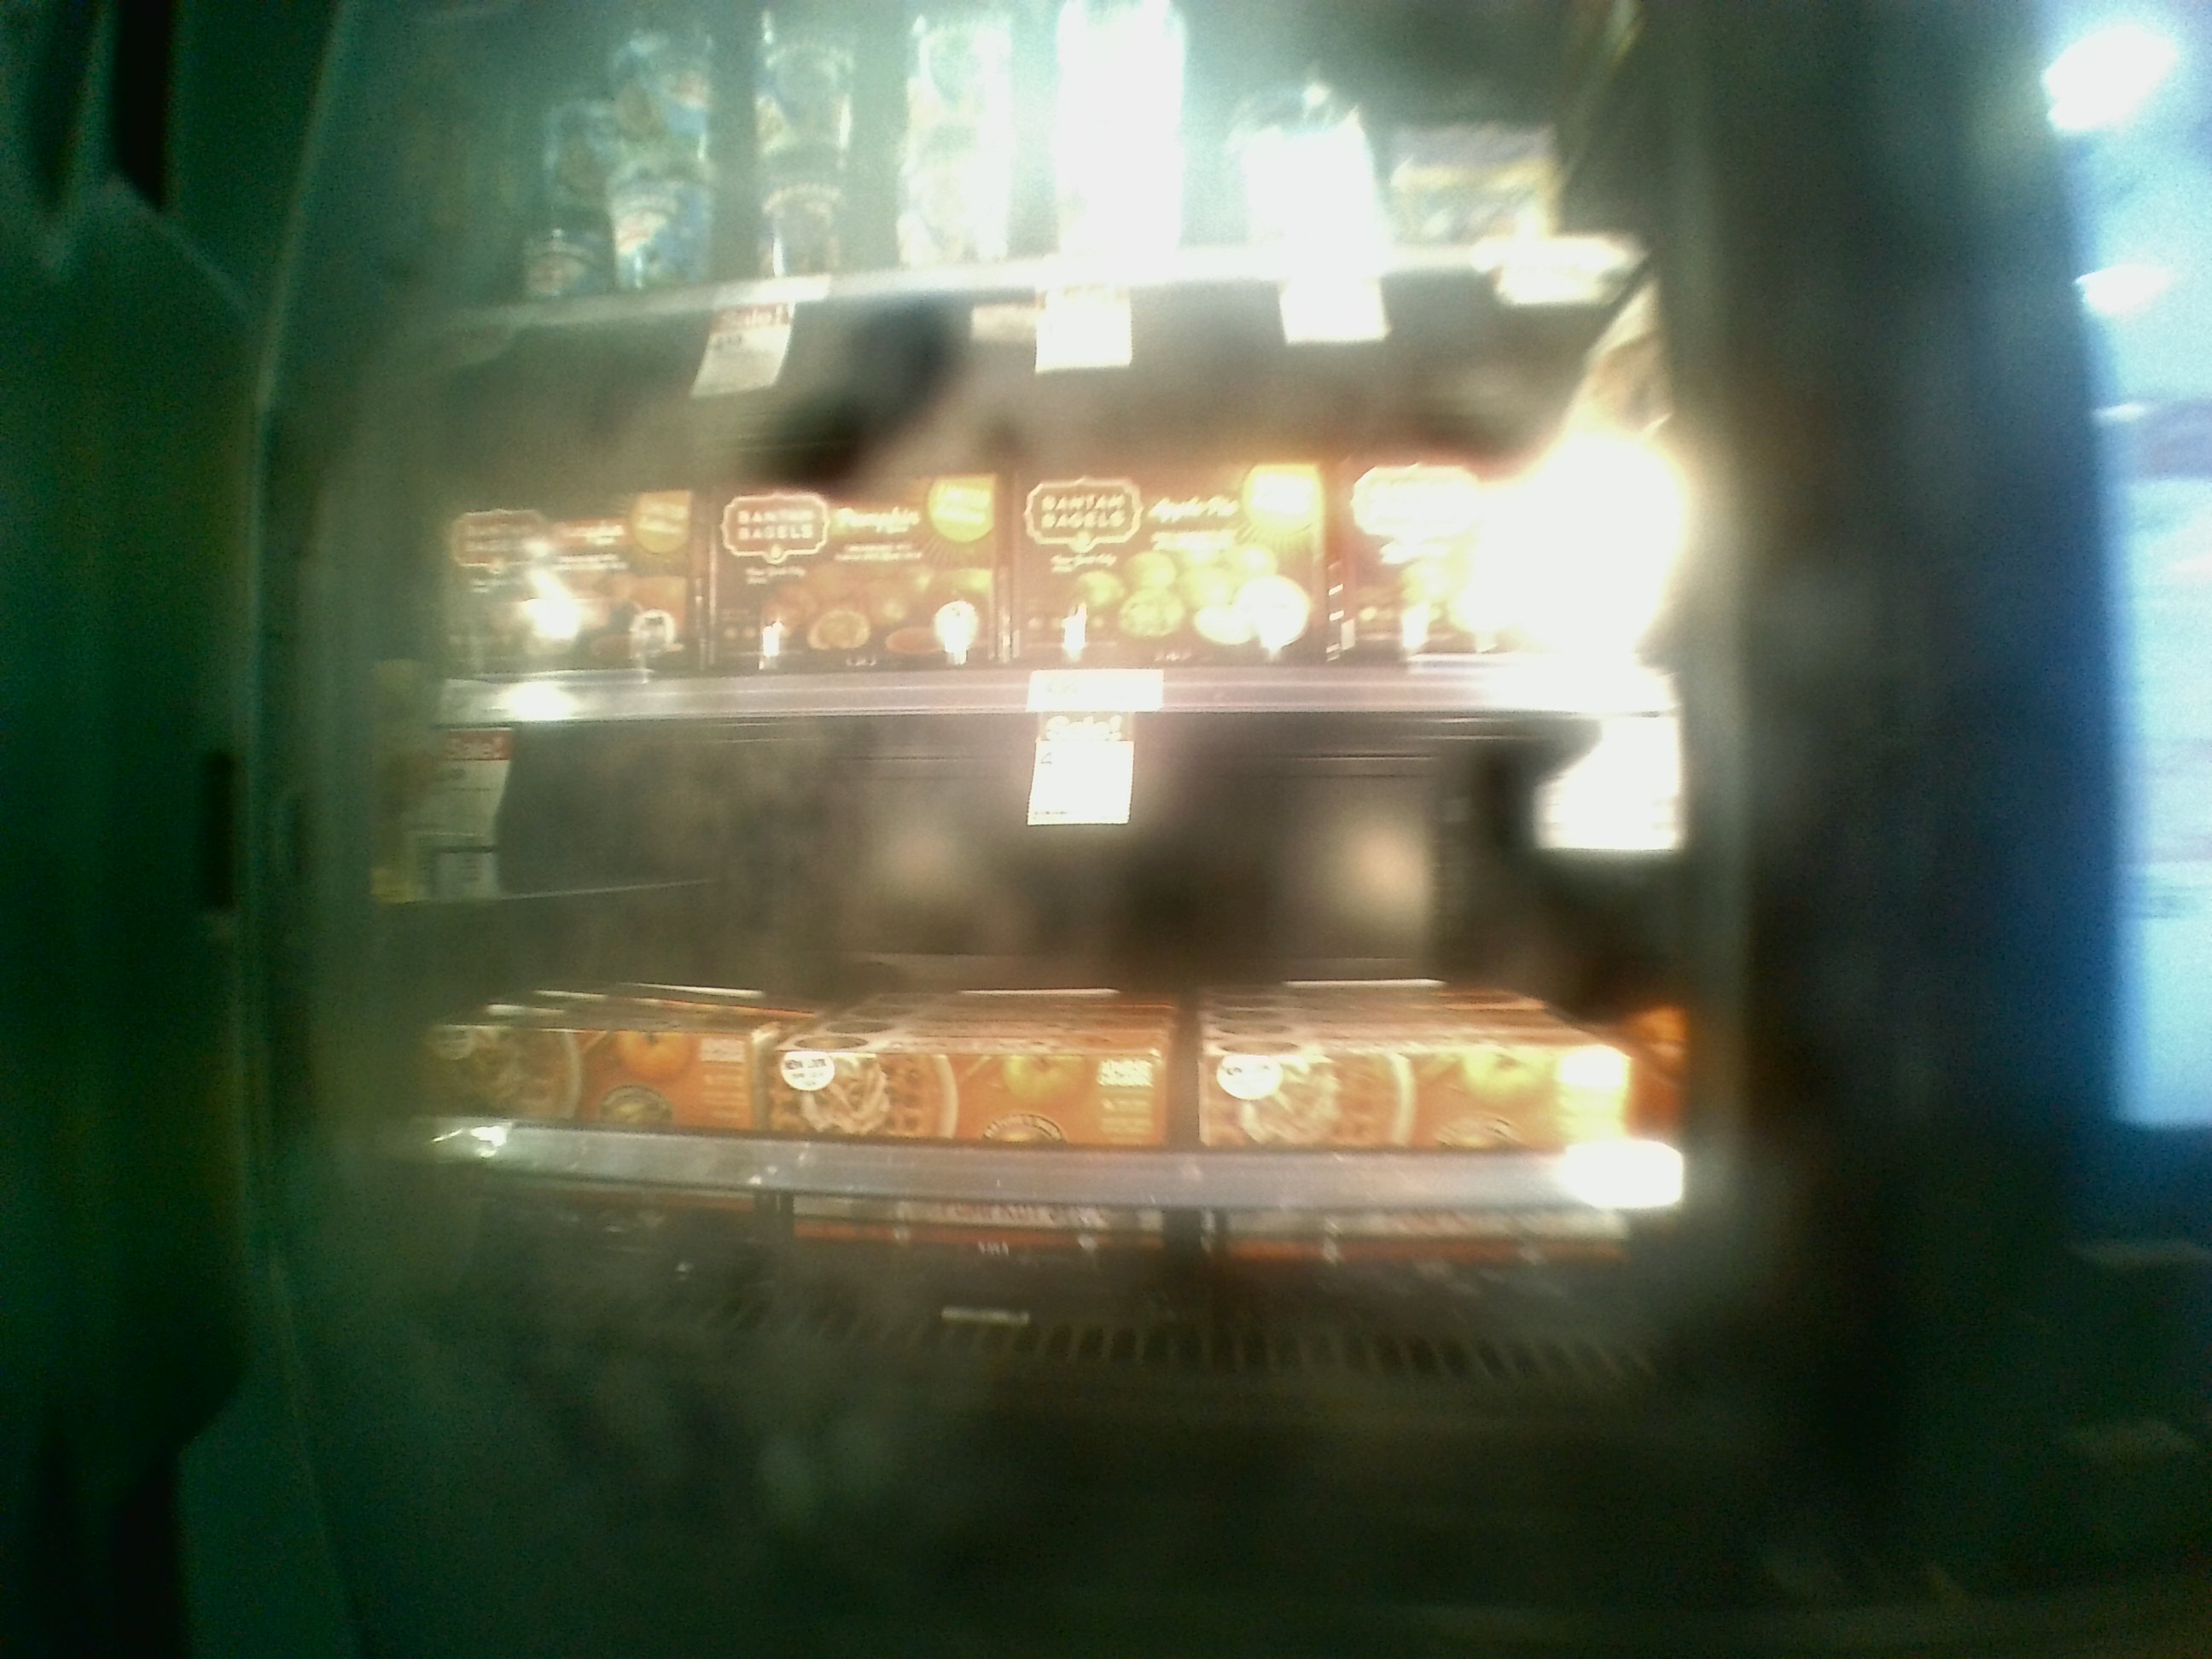shelf: (361, 704, 1693, 1420), (371, 321, 1700, 721)
